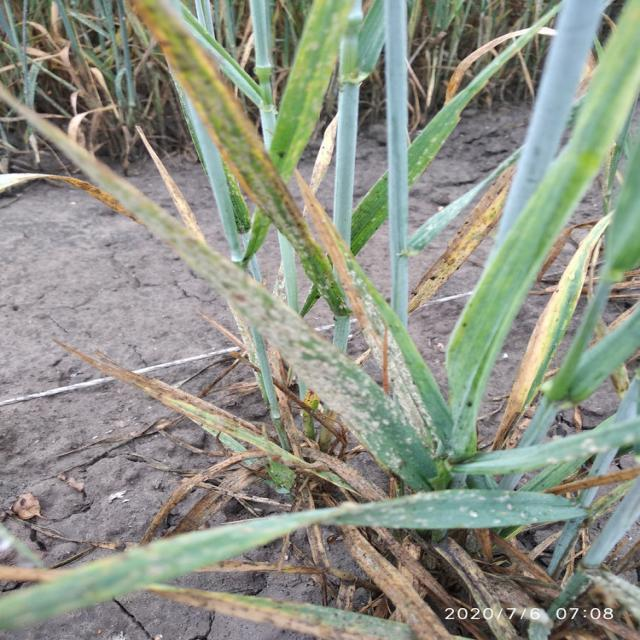wheat-powdery-mildew: (22, 103, 392, 459), (308, 196, 436, 446)
